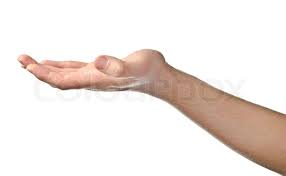hand: (16, 42, 168, 97)
